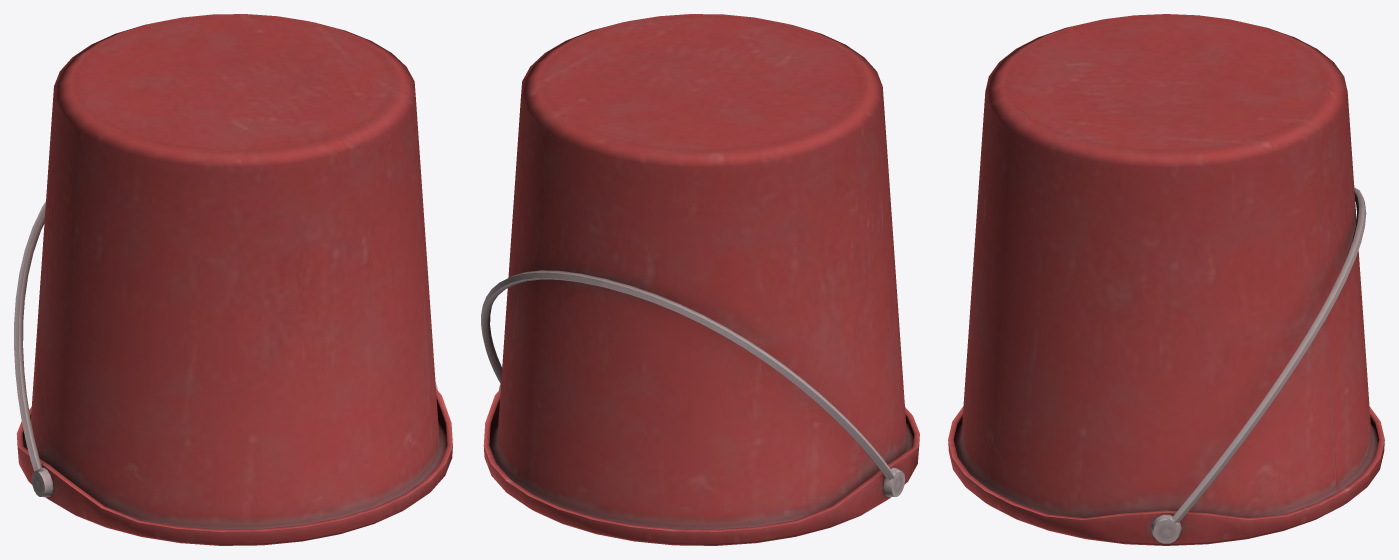
File: hat_bucket.glb
The picture shows the model from 3 angles, left to right: view 1: azimuth 30°, elevation 25°; view 2: azimuth 150°, elevation 25°; view 3: azimuth 270°, elevation 25°; orthographic projection.
Visible parts, largest first — view 1: Plastic_Bucket_Plastic_Bucket_0; view 2: Plastic_Bucket_Plastic_Bucket_0; view 3: Plastic_Bucket_Plastic_Bucket_0.
Boxes of the visible parts, x1=… form: Plastic_Bucket_Plastic_Bucket_0: x1=14, y1=14, x2=452, y2=545; Plastic_Bucket_Plastic_Bucket_0: x1=481, y1=14, x2=919, y2=545; Plastic_Bucket_Plastic_Bucket_0: x1=948, y1=14, x2=1384, y2=545.
Bounding box in the file's own units: 0.4719 × 0.4283 × 0.4543.
Materials: 1 (1 with a texture image).
